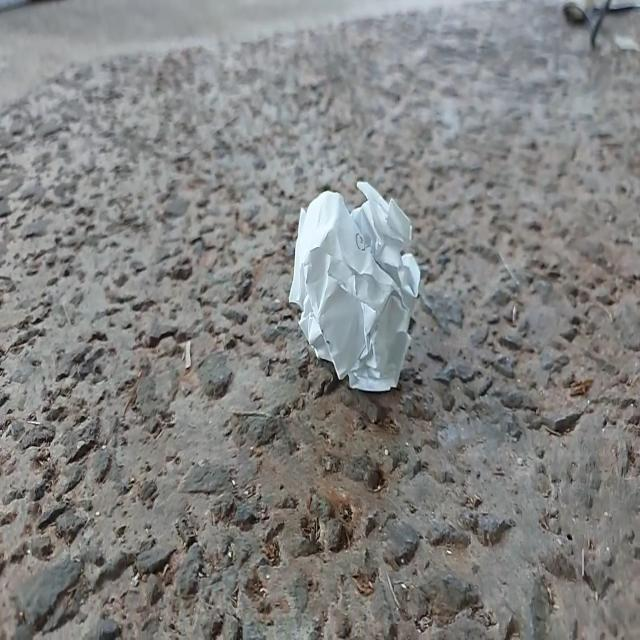Paper: (279, 165, 429, 407)
